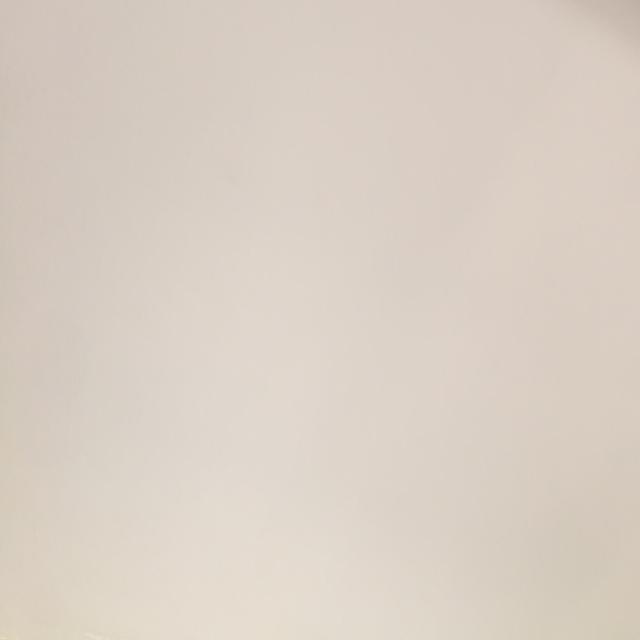fluorescent tube: (188, 0, 640, 265)
